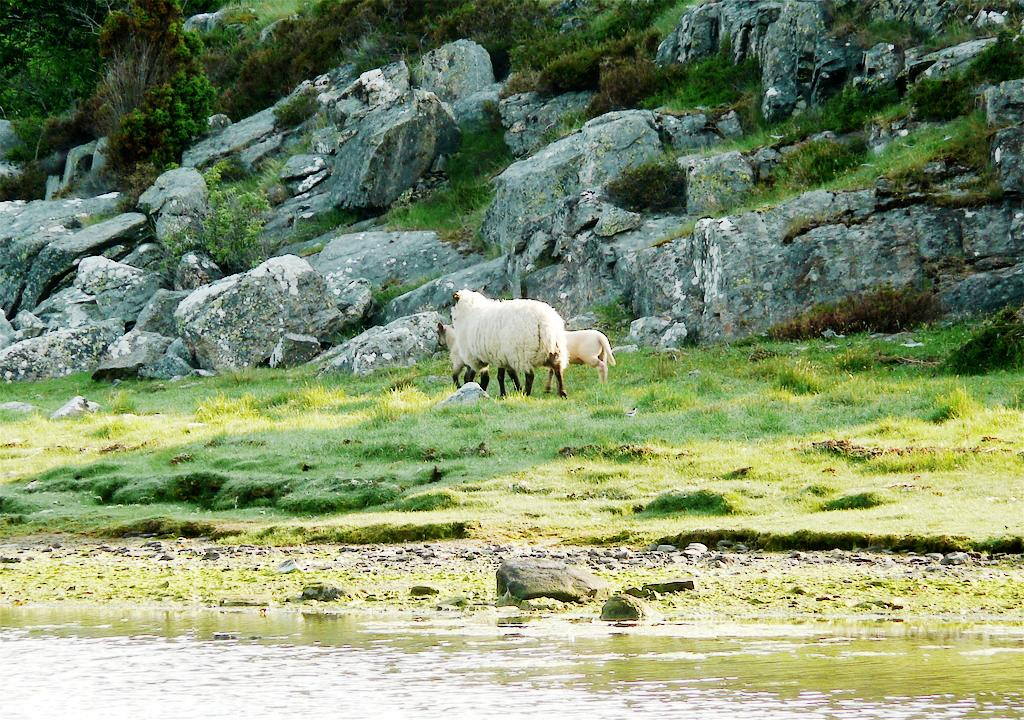Sheep: (440, 288, 566, 397)
